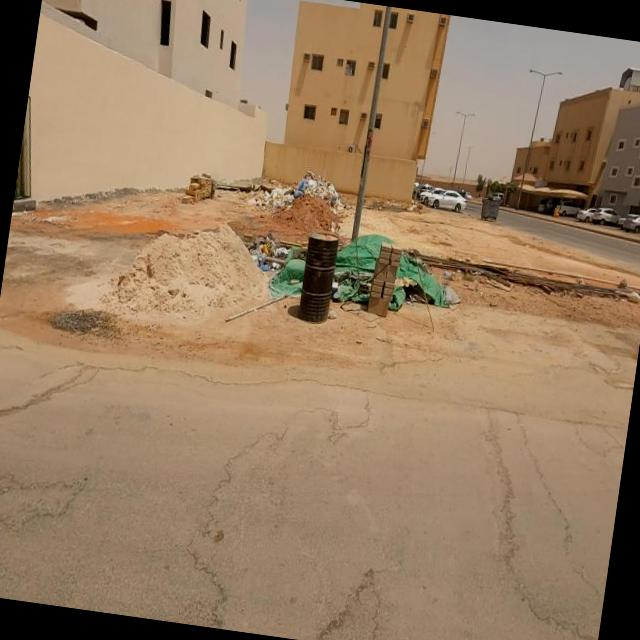debris: (283, 156, 498, 376), (255, 117, 383, 255), (219, 197, 330, 325), (213, 130, 322, 241)
